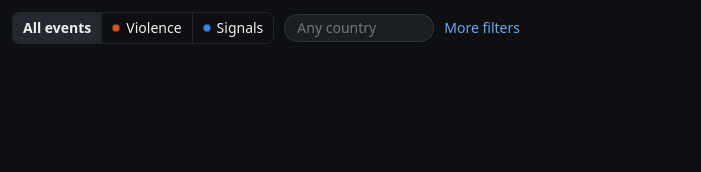
it: FilterBar › keeps sources behind More filters until wanted
Expected: the button "UCDP" is not shown
Click the button "More filters". click: point(482, 28)
box: x1=444 y1=18 x2=520 y2=38
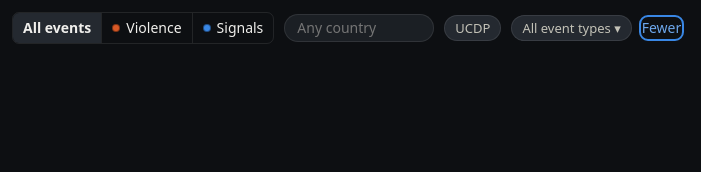
Now the button "UCDP" is shown, box x1=444 y1=15 x2=501 y2=41
